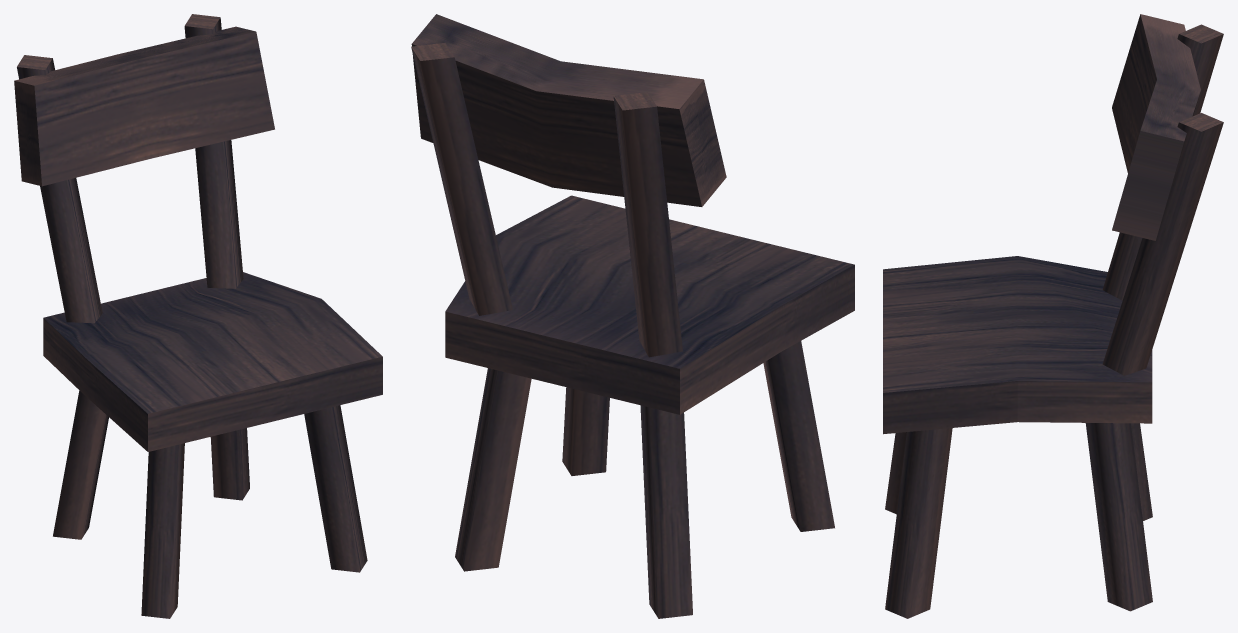
The model's file is Chair_C.fbx.
The picture shows the model from 3 angles, left to right: view 1: azimuth 30°, elevation 25°; view 2: azimuth 150°, elevation 25°; view 3: azimuth 270°, elevation 25°; orthographic projection. The views are drawn at different scales.
Parts seen in each view (by area): view 1: Chair_C; view 2: Chair_C; view 3: Chair_C.
Boxes of the visible parts, x1,y1,x2,y2 form: Chair_C: (14, 14, 382, 618); Chair_C: (411, 14, 854, 618); Chair_C: (883, 14, 1223, 618).
Bounding box in the file's own units: 0.1521 × 0.2759 × 0.1753.
